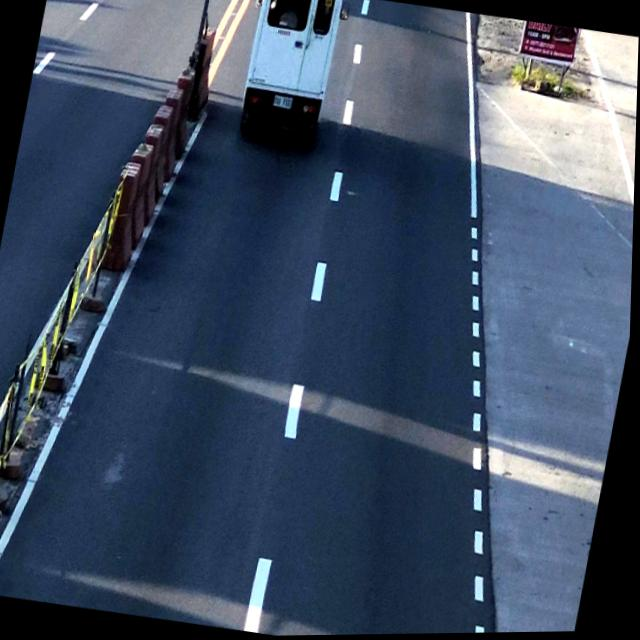Car: (238, 0, 343, 143)
License-Plate: (271, 91, 298, 115)
